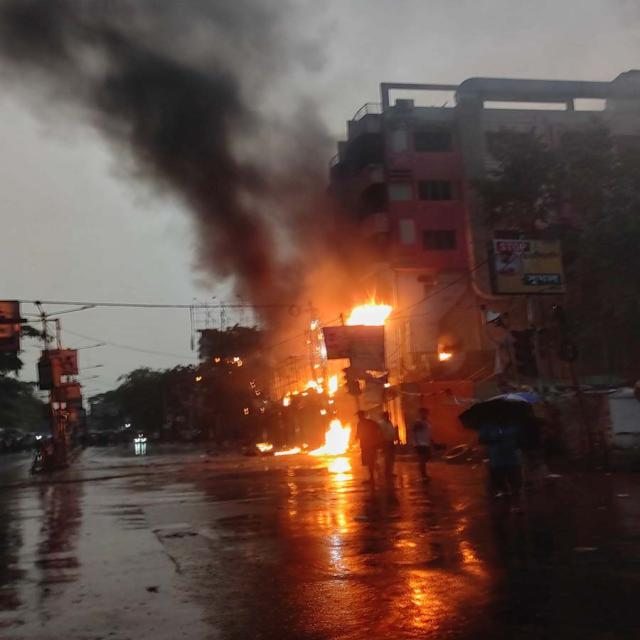fire: (346, 294, 392, 326)
